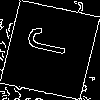J: (25, 25, 80, 60)
